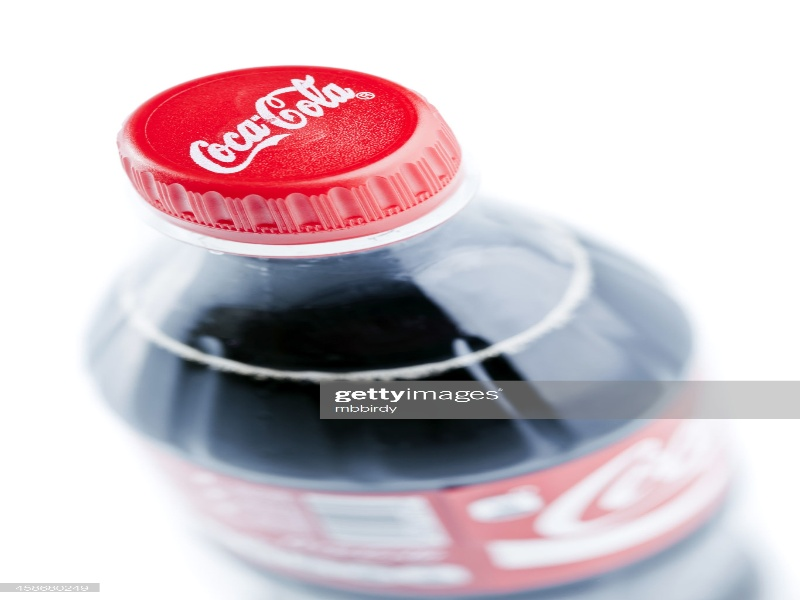coke-bottle-300ml: (76, 37, 680, 428)
